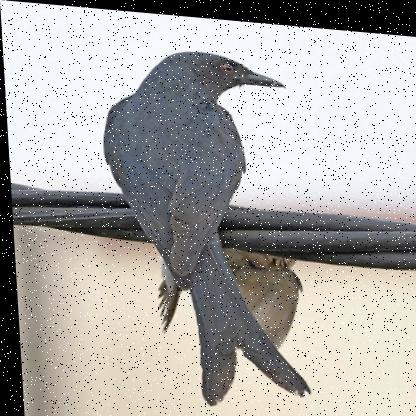Burung: (98, 39, 308, 408)
